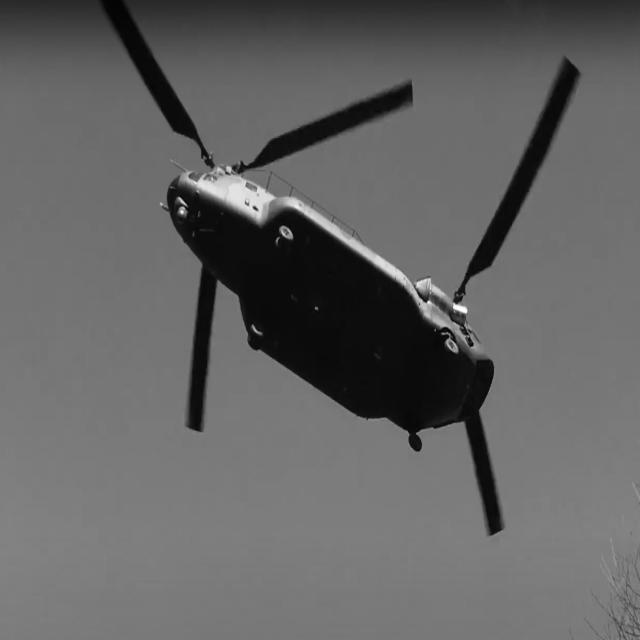Helicopter: (102, 0, 578, 534)
